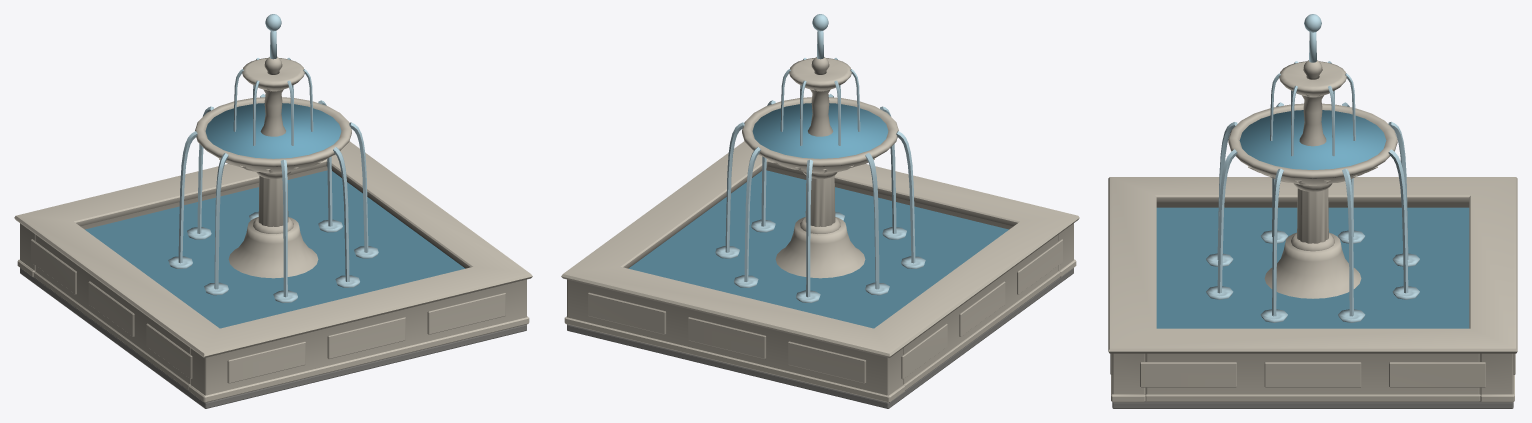
The model's file is fountainTown.glb.
3 renders of one model, left to right at view 1: azimuth 30°, elevation 25°; view 2: azimuth 150°, elevation 25°; view 3: azimuth 270°, elevation 25°, orthographic. The views are drawn at different scales.
Visible parts, largest first — view 1: fountainTown, splash; view 2: fountainTown, splash; view 3: fountainTown, splash, jet.
Part boxes in pixels (<box>): fountainTown: <box>14,57,532,408</box>; splash: <box>168,212,378,302</box>; fountainTown: <box>561,57,1079,408</box>; splash: <box>715,212,925,302</box>; fountainTown: <box>1108,60,1517,408</box>; splash: <box>1206,230,1419,322</box>; jet: <box>1304,14,1321,62</box>.
Size of the model in its own units: 2.96 by 2.47 by 2.96.
